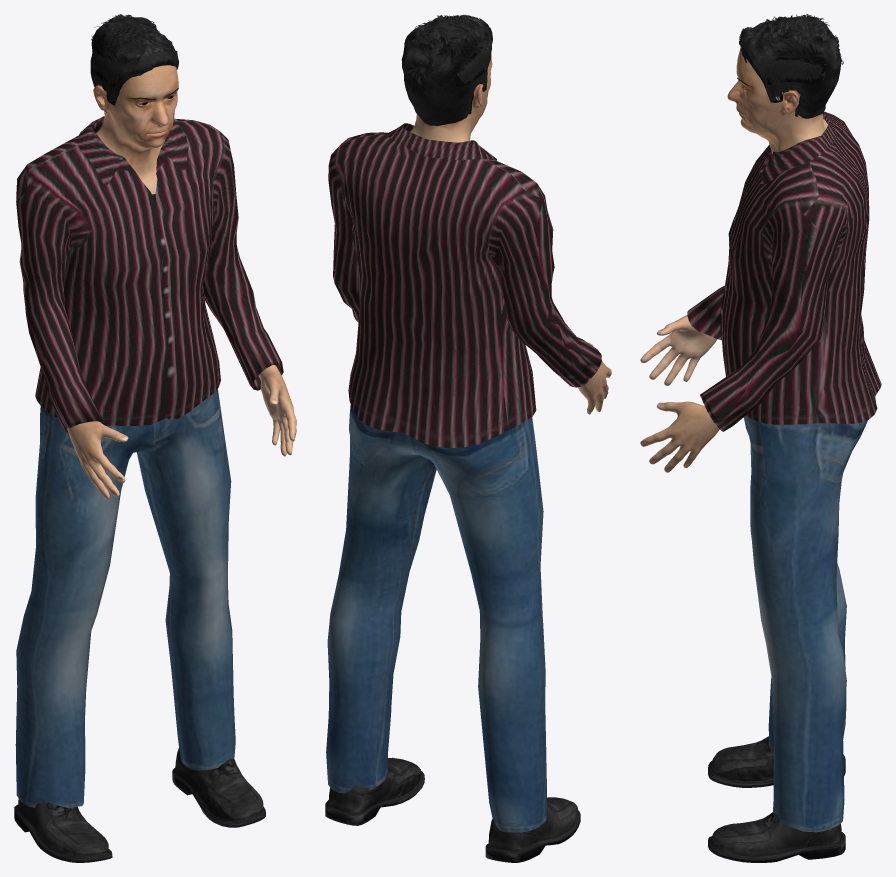
The model's file is old-man.glb.
3 renders of one model, left to right at view 1: azimuth 30°, elevation 25°; view 2: azimuth 150°, elevation 25°; view 3: azimuth 270°, elevation 25°, orthographic.
Parts seen in each view (by area): view 1: Human.male_casualsuit03.001, Human.001, Human.shoes04.001, Human.short01.001; view 2: Human.male_casualsuit03.001, Human.short01.001, Human.shoes04.001, Human.001; view 3: Human.male_casualsuit03.001, Human.001, Human.short01.001, Human.shoes04.001.
Boxes of the visible parts, x1,y1,x2,y2 form: Human.male_casualsuit03.001: (15,116,283,808); Human.001: (67,65,296,499); Human.shoes04.001: (14,748,265,862); Human.short01.001: (90,14,178,112); Human.male_casualsuit03.001: (326,123,601,832); Human.short01.001: (401,15,492,125); Human.shoes04.001: (325,757,580,862); Human.001: (411,56,611,414); Human.male_casualsuit03.001: (687,111,881,832); Human.001: (640,46,827,472); Human.short01.001: (739,14,843,118); Human.shoes04.001: (708,736,845,862).
Size of the model in its own units: 0.4927 by 1.7 by 0.4673.
6 materials, 6 textured.
